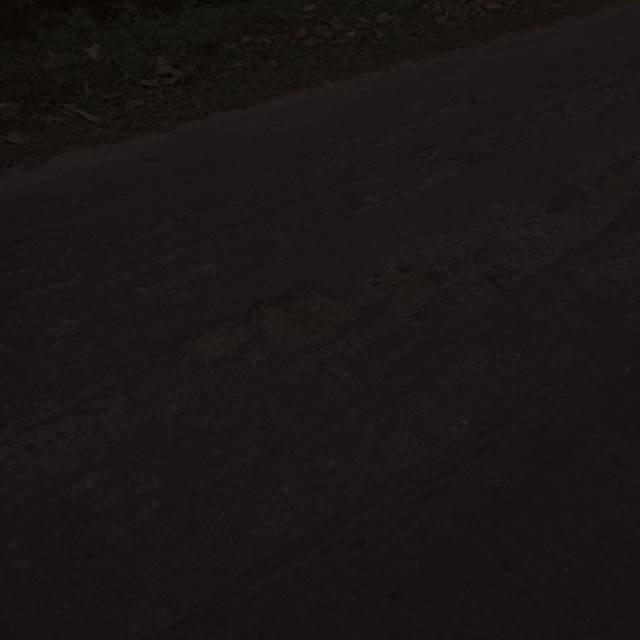Pothole: (178, 278, 356, 384), (362, 249, 460, 326)
